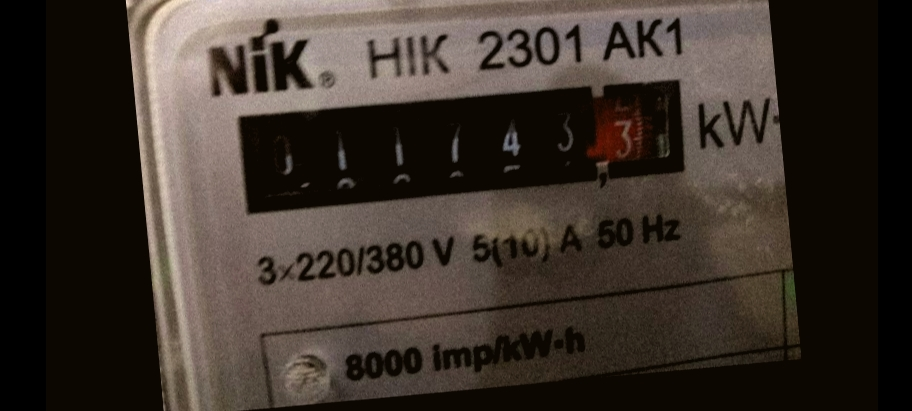0: (267, 129, 300, 178)
1: (386, 120, 412, 169), (332, 125, 353, 174)
3: (550, 106, 582, 155), (611, 115, 639, 161)
4: (496, 110, 528, 160)
7: (442, 116, 471, 166)
screen: (222, 65, 697, 225)
